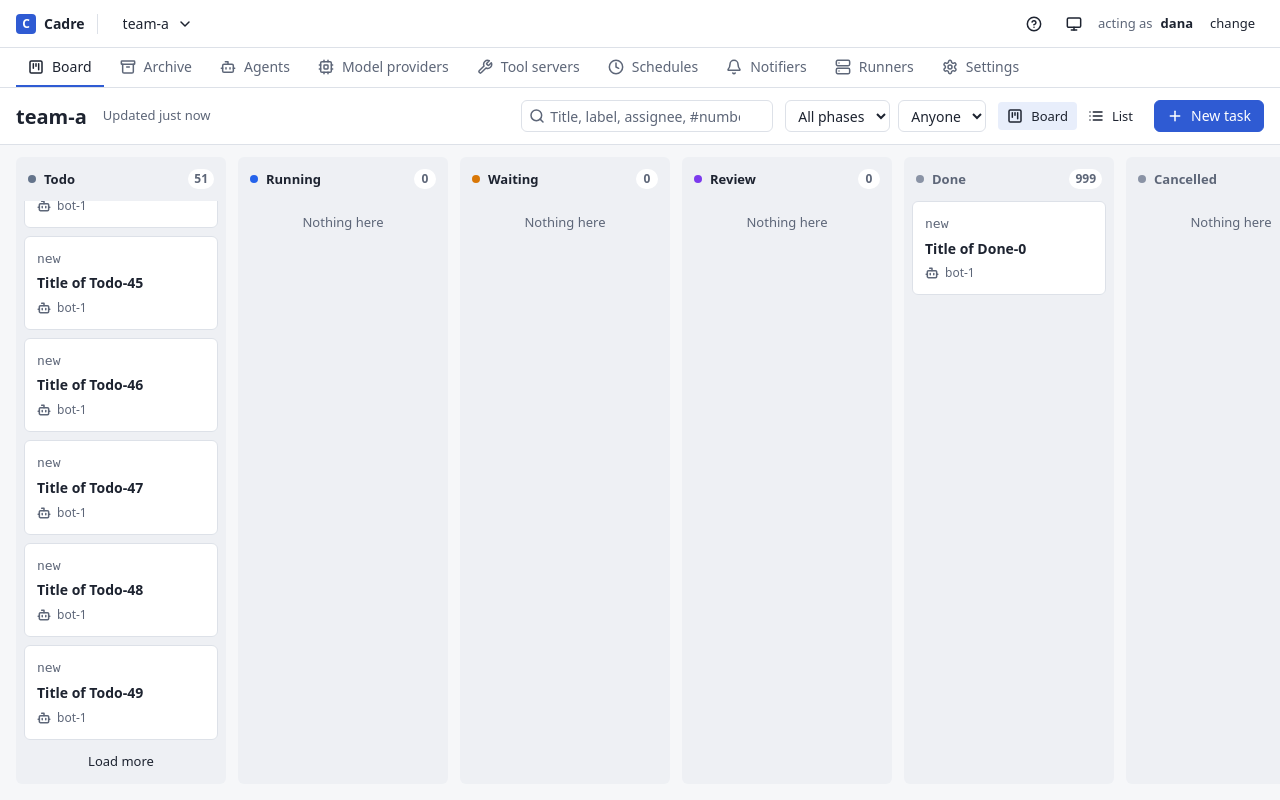
Scenario: Board › reads the first pages again when a filter changes, and offers more by the page, not the total
(page scrolled)
Click the button "Load more". click: (121, 762)
box: x1=24 y1=748 x2=218 y2=776
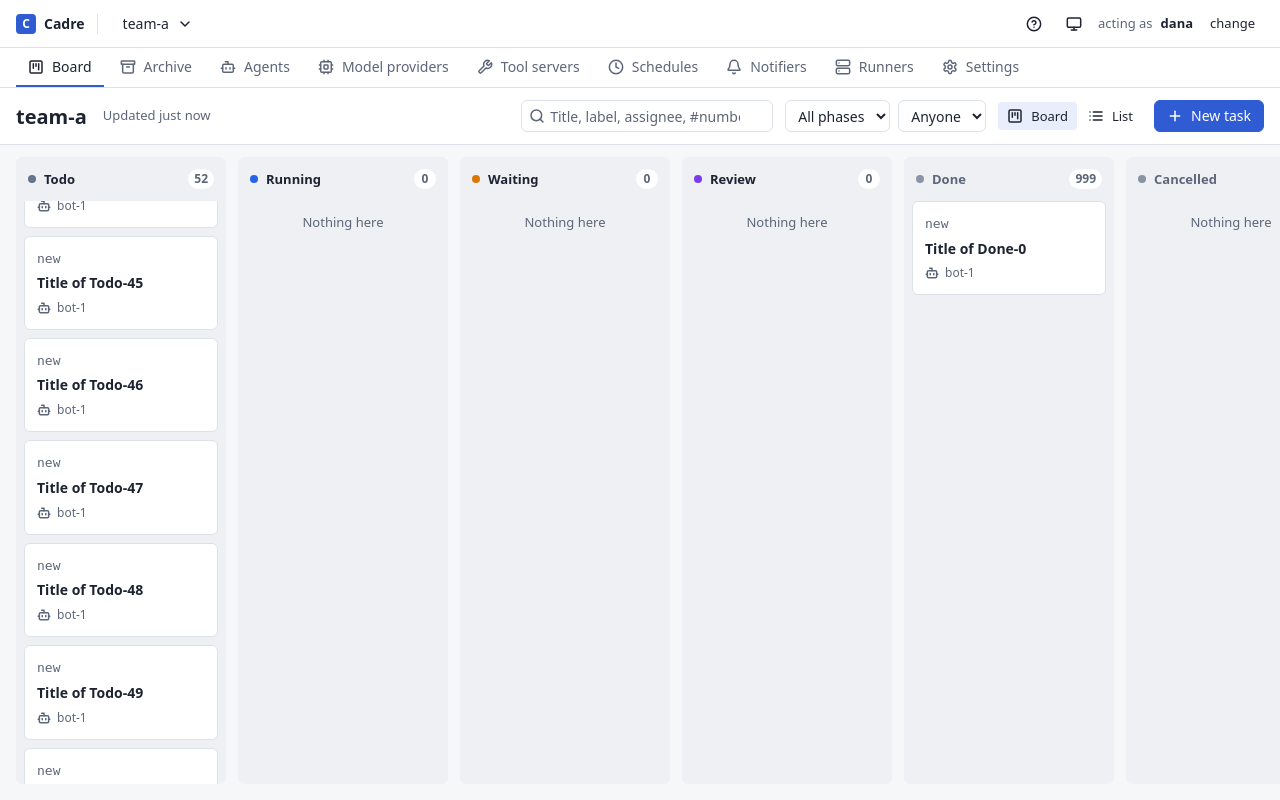
Expected: the button "Load more" is gone
Expected: the text with class "count-pill" reads "52", x1=194 y1=170 x2=208 y2=187
Select "bot-1" in the 2nd dropdown named "Assignee". click: (942, 116)
box: x1=898 y1=100 x2=986 y2=132
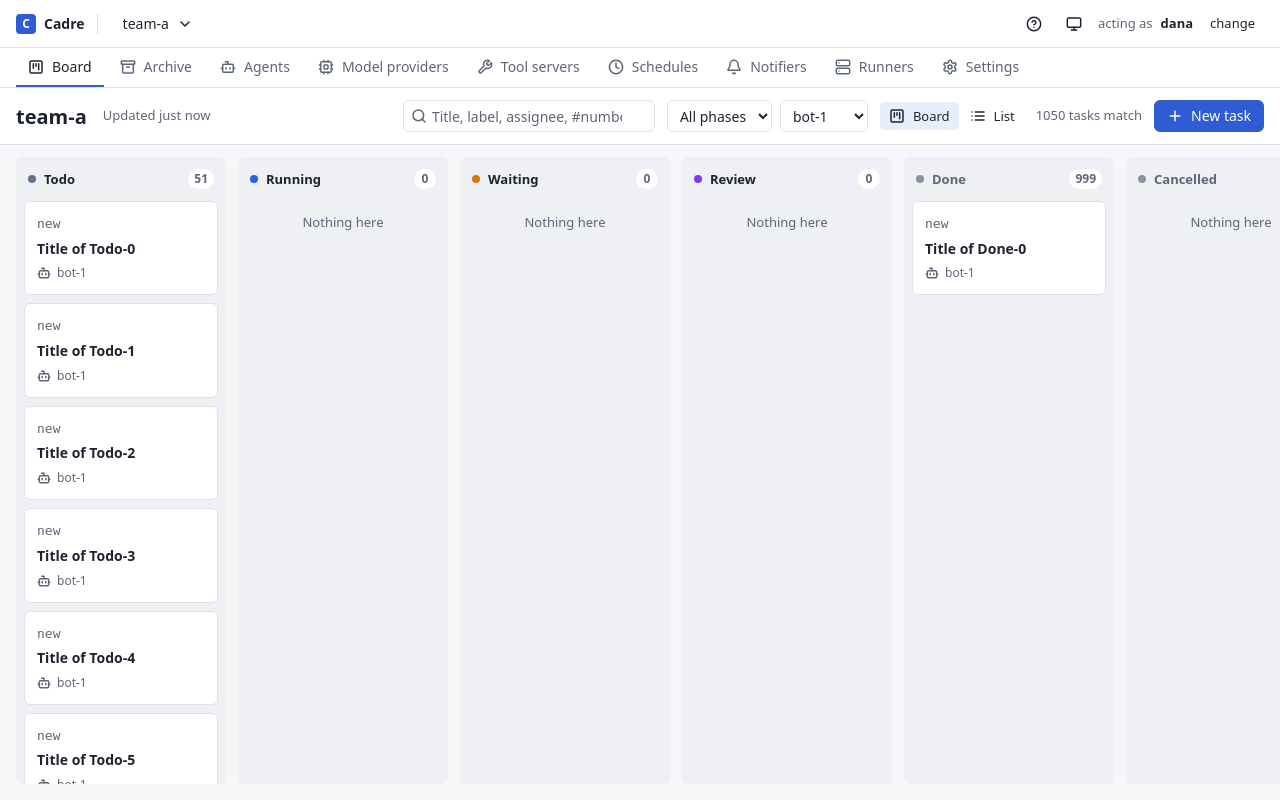
Expected: the text with class "count-pill" reads "51", x1=194 y1=170 x2=208 y2=187
